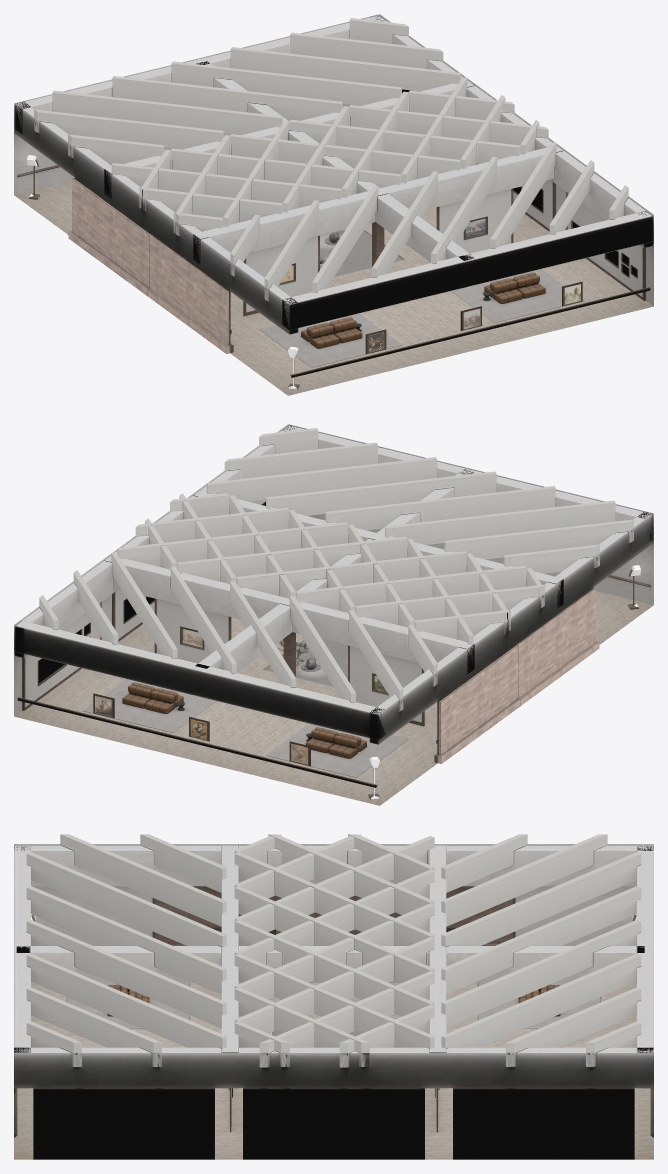
3 renders of one model, top to bottom at view 1: azimuth 30°, elevation 25°; view 2: azimuth 150°, elevation 25°; view 3: azimuth 270°, elevation 25°, orthographic. The views are drawn at different scales.
Visible parts, largest first — view 1: roof_roof_0, house_house_0, floor_floor_0, door_door1_0, wall_wall1_0, carpet_carpet_0, wall_wall2_0, sofa_sofa_0, ground_ground_0, frame_frame_0; view 2: roof_roof_0, house_house_0, floor_floor_0, door_door1_0, wall_wall1_0, carpet_carpet_0, wall_wall2_0, sofa_sofa_0, ground_ground_0, frame_frame_0; view 3: roof_roof_0, house_house_0, wall_wall2_0, floor_floor_0, door_door1_0, carpet_carpet_0, sofa_sofa_0.
Boxes of the visible parts, x1,y1,x2,y2 form: roof_roof_0: [34, 18, 628, 301]; house_house_0: [14, 14, 653, 334]; floor_floor_0: [14, 181, 653, 395]; door_door1_0: [68, 178, 233, 353]; wall_wall1_0: [246, 89, 642, 312]; carpet_carpet_0: [259, 269, 584, 367]; wall_wall2_0: [17, 164, 650, 377]; sofa_sofa_0: [301, 272, 545, 348]; ground_ground_0: [320, 229, 403, 276]; frame_frame_0: [279, 90, 637, 354]; roof_roof_0: [39, 428, 633, 711]; house_house_0: [14, 424, 653, 744]; floor_floor_0: [14, 581, 653, 805]; door_door1_0: [434, 588, 599, 763]; wall_wall1_0: [25, 499, 457, 722]; carpet_carpet_0: [83, 679, 408, 777]; wall_wall2_0: [17, 575, 650, 787]; sofa_sofa_0: [122, 682, 366, 758]; ground_ground_0: [264, 639, 347, 686]; frame_frame_0: [38, 502, 388, 766]; roof_roof_0: [26, 834, 641, 1067]; house_house_0: [14, 844, 653, 1088]; wall_wall2_0: [14, 1088, 653, 1159]; floor_floor_0: [14, 983, 653, 1159]; door_door1_0: [155, 886, 512, 945]; carpet_carpet_0: [67, 983, 600, 1028]; sofa_sofa_0: [107, 984, 560, 1016].
Size of the model in its own units: 23.22 by 6.15 by 29.85.
48 materials, 48 textured.
